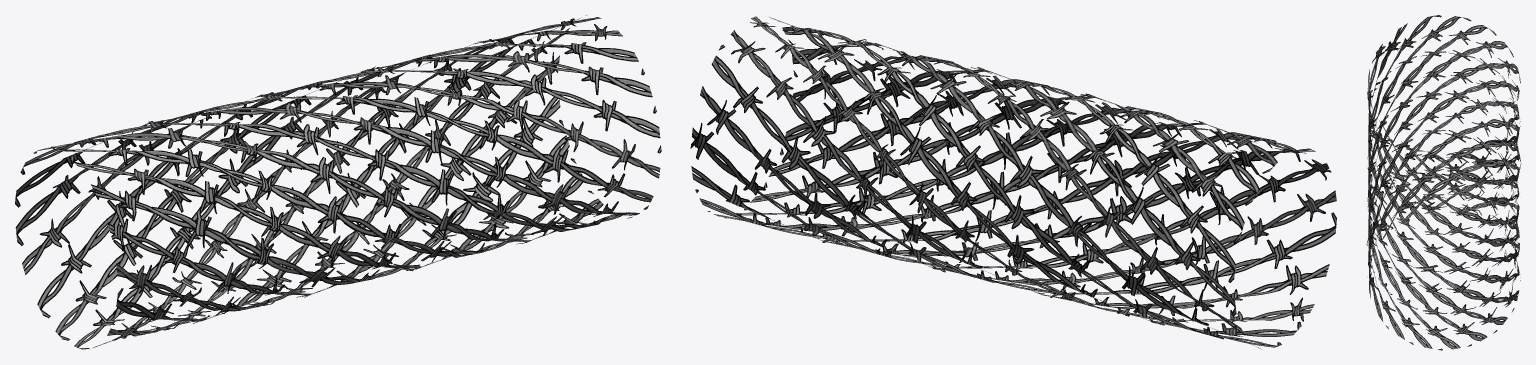
The model's file is BarbedWire.fbx.
3 renders of one model, left to right at view 1: azimuth 30°, elevation 25°; view 2: azimuth 150°, elevation 25°; view 3: azimuth 270°, elevation 25°, orthographic. The views are drawn at different scales.
Visible parts, largest first — view 1: BarbedWire; view 2: BarbedWire; view 3: BarbedWire.
Boxes of the visible parts, <box> form: BarbedWire: <box>15,15,661,349</box>; BarbedWire: <box>690,16,1336,349</box>; BarbedWire: <box>1366,15,1521,350</box>.
Size of the model in its own units: 6 by 2 by 2.
